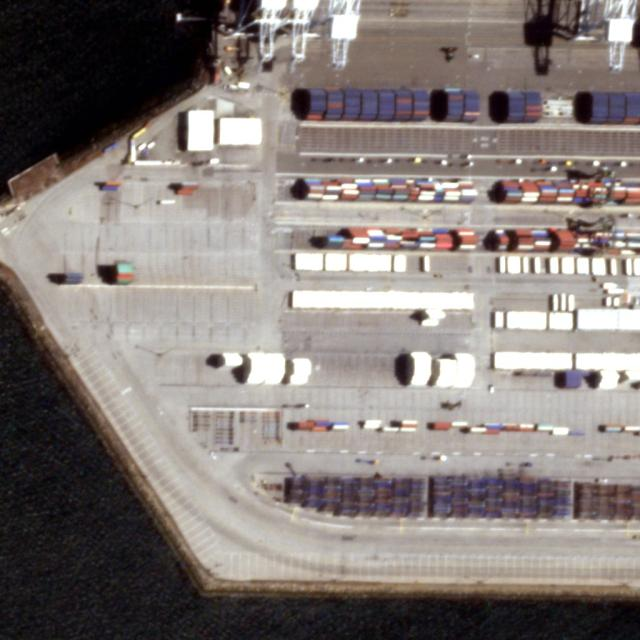containers: (300, 86, 639, 131), (285, 478, 639, 521), (296, 175, 639, 208), (322, 232, 639, 259)
